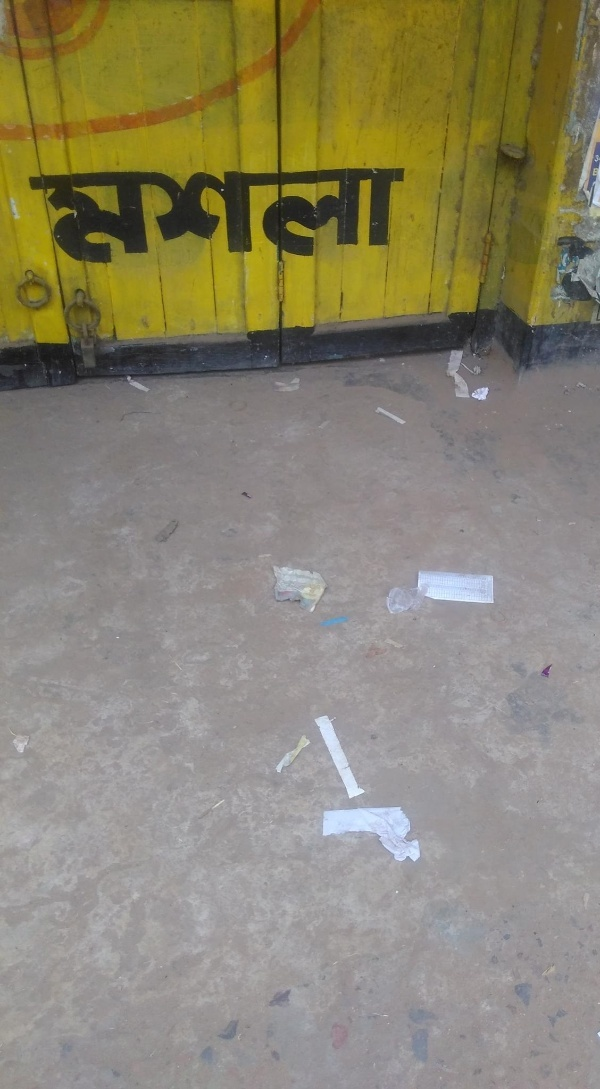text: (33, 158, 48, 267), (49, 158, 64, 267), (65, 158, 80, 267), (81, 158, 96, 267), (97, 158, 112, 267), (113, 158, 128, 267), (129, 158, 144, 267), (145, 158, 160, 267), (161, 158, 176, 267), (177, 158, 192, 267), (193, 158, 208, 267), (209, 158, 224, 267), (225, 158, 240, 267), (241, 158, 256, 267), (257, 158, 272, 267), (273, 158, 288, 267), (289, 158, 304, 267), (305, 158, 320, 267), (321, 158, 336, 267), (337, 158, 352, 267), (353, 158, 368, 267), (369, 158, 384, 267), (385, 158, 400, 267), (401, 158, 414, 267), (26, 158, 32, 267), (433, 568, 448, 605), (449, 568, 464, 605), (465, 568, 480, 605), (481, 568, 496, 605), (593, 134, 600, 207), (420, 568, 432, 605), (586, 134, 592, 207), (497, 568, 498, 605)
